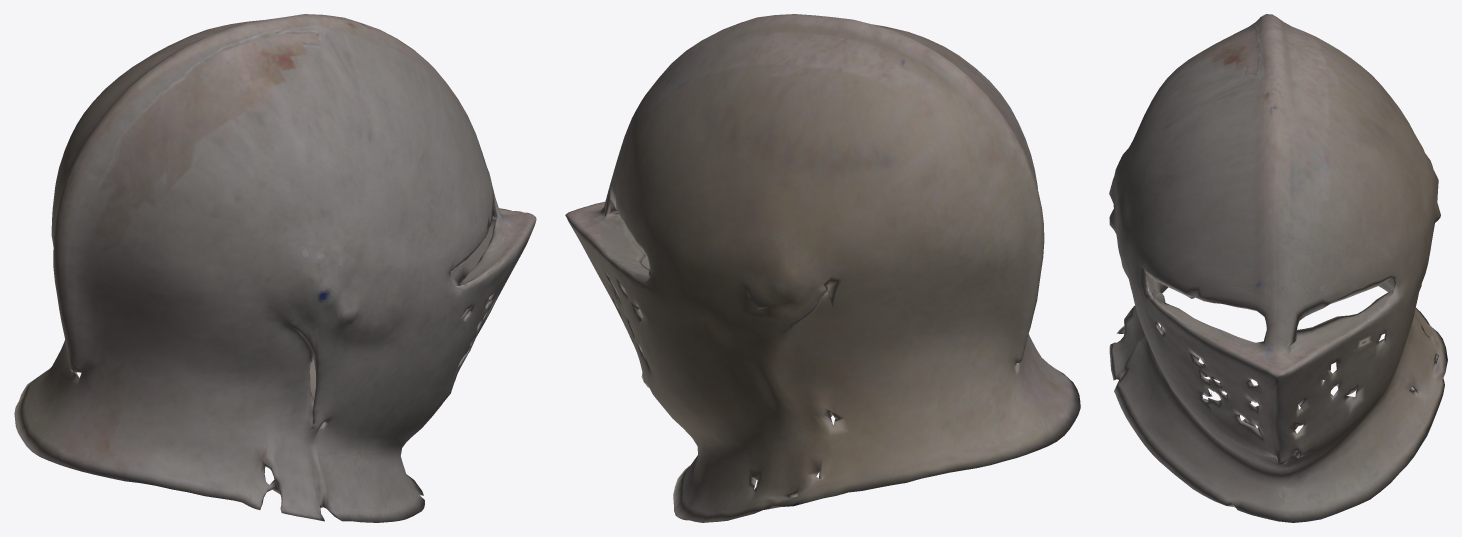
The model's file is Steel Helmet.glb.
3 views of the same model, side by side, from view 1: azimuth 30°, elevation 25°; view 2: azimuth 150°, elevation 25°; view 3: azimuth 270°, elevation 25° (orthographic). The views are drawn at different scales.
Parts seen in each view (by area): view 1: file1; view 2: file1; view 3: file1.
Part boxes in pixels (x1=…): file1: x1=14, y1=14, x2=536, y2=522; file1: x1=565, y1=14, x2=1080, y2=522; file1: x1=1109, y1=14, x2=1447, y2=522.
Size of the model in its own units: 1.99 by 1.9 by 1.39.
1 material, 1 textured.
